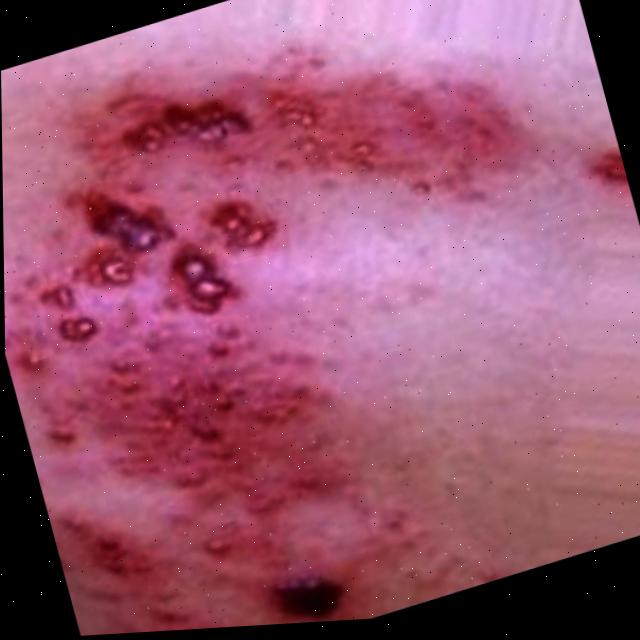Shingles: (0, 0, 535, 362), (7, 275, 404, 640)
